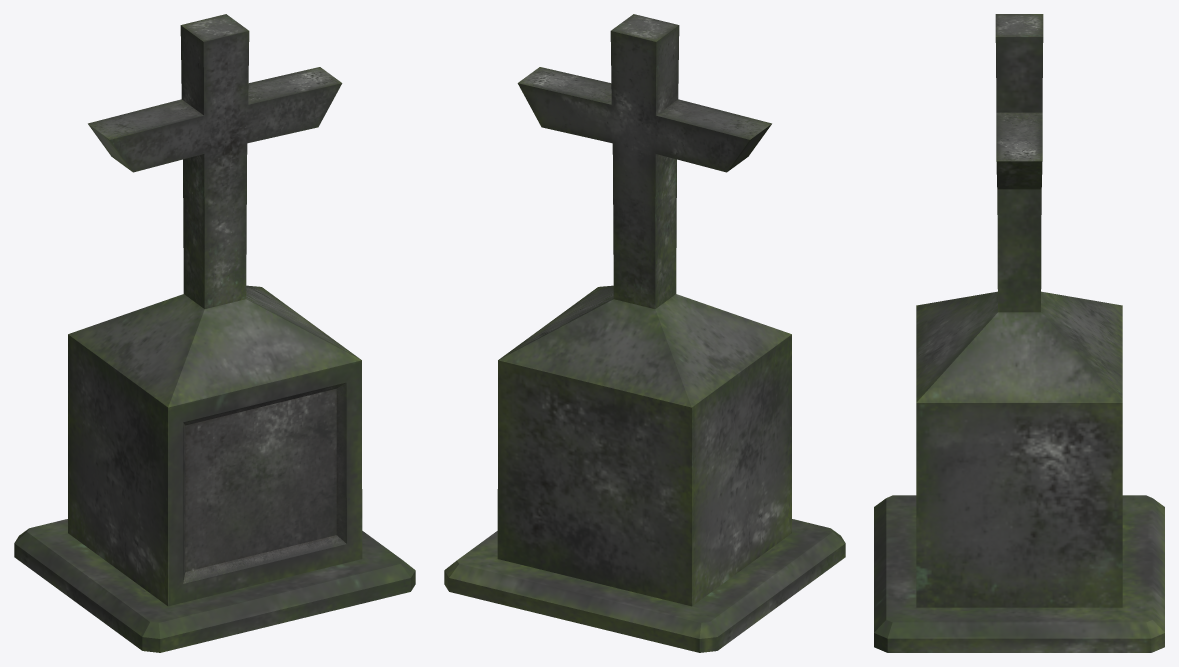
The model's file is tombs_moss_04.fbx.
The picture shows the model from 3 angles, left to right: view 1: azimuth 30°, elevation 25°; view 2: azimuth 150°, elevation 25°; view 3: azimuth 270°, elevation 25°; orthographic projection. The views are drawn at different scales.
Visible parts, largest first — view 1: tombs_moss_04; view 2: tombs_moss_04; view 3: tombs_moss_04.
Boxes of the visible parts, box(x1,y1,x2,y2) form: tombs_moss_04: box(14, 14, 415, 652); tombs_moss_04: box(444, 14, 845, 652); tombs_moss_04: box(874, 14, 1164, 652).
Size of the model in its own units: 0.2131 by 0.4044 by 0.1908.
Materials: 1 (1 with a texture image).
